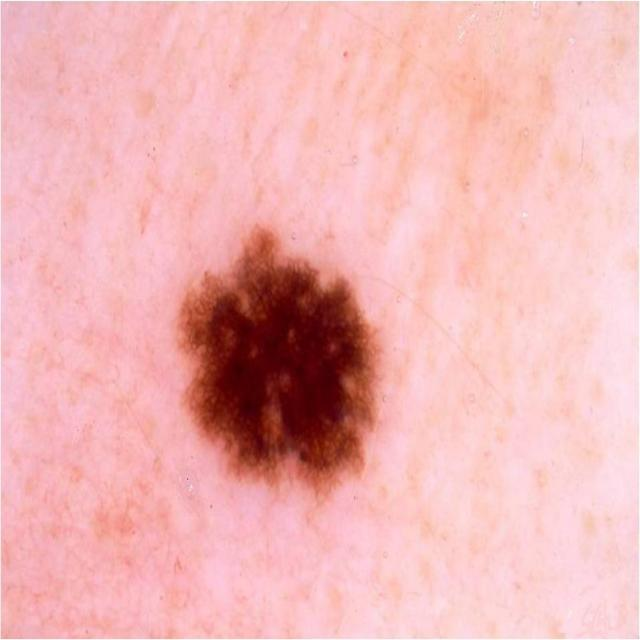Benign: (170, 215, 390, 514)
